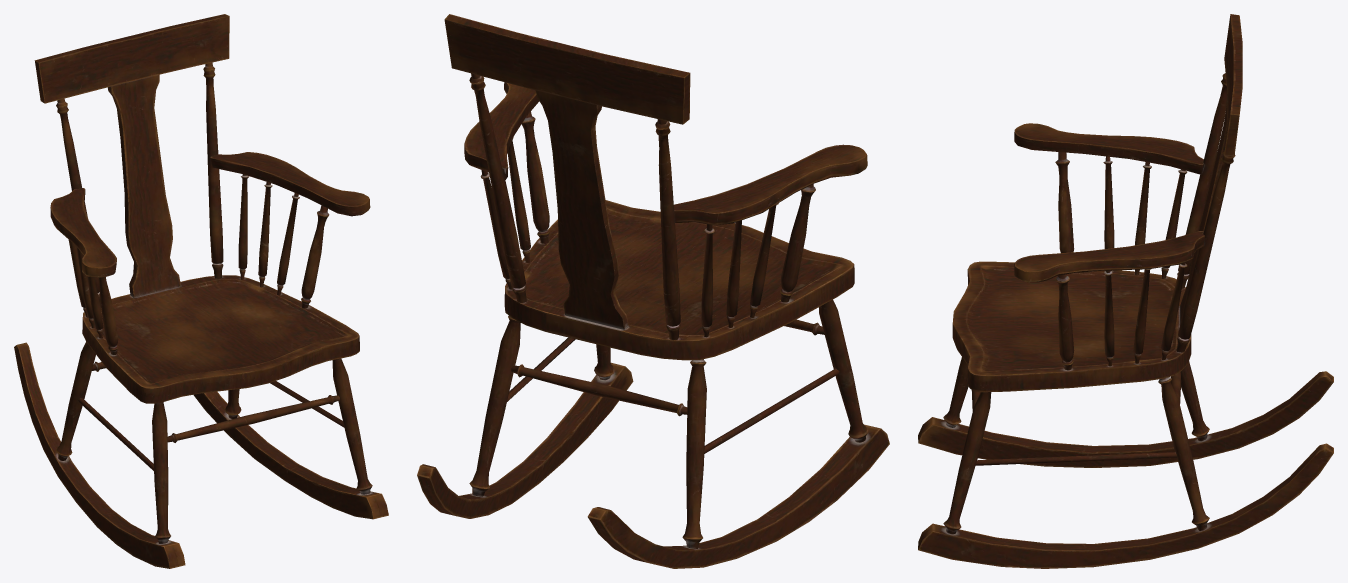
Rendered from rocking_chair.glb.
3 views of the same model, side by side, from view 1: azimuth 30°, elevation 25°; view 2: azimuth 150°, elevation 25°; view 3: azimuth 270°, elevation 25° (orthographic). The views are drawn at different scales.
Parts seen in each view (by area): view 1: Rockingchair_01; view 2: Rockingchair_01; view 3: Rockingchair_01.
Part boxes in pixels (x1,y1,x2,y2): Rockingchair_01: [14, 14, 388, 568]; Rockingchair_01: [417, 14, 889, 568]; Rockingchair_01: [918, 14, 1333, 568].
Size of the model in its own units: 1.06 by 1.49 by 1.25.
Materials: 1 (1 with a texture image).
